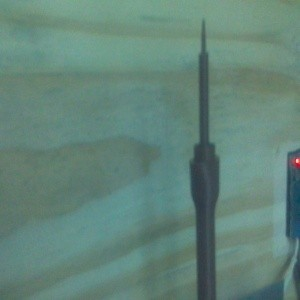solder: (189, 17, 220, 300)
